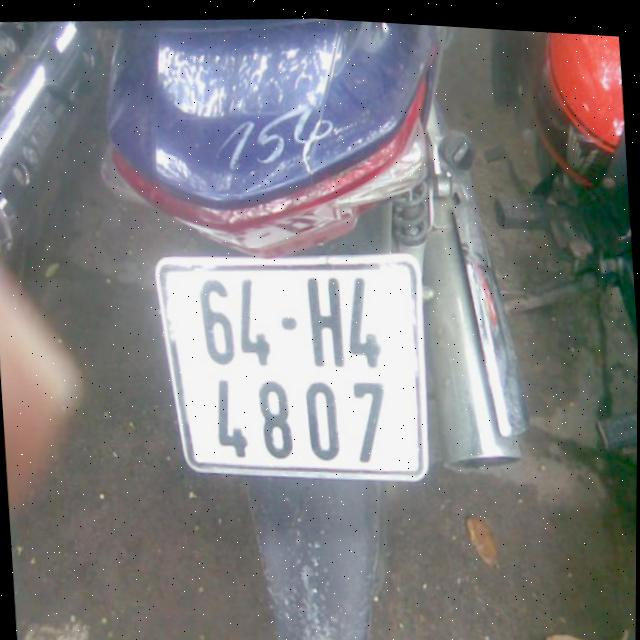motorcycle: (81, 5, 556, 640)
plate: (152, 229, 440, 501)
